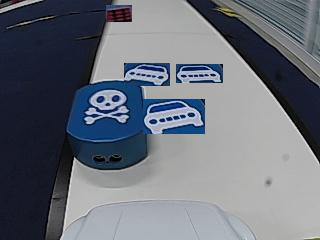danger: (83, 90, 126, 125)
